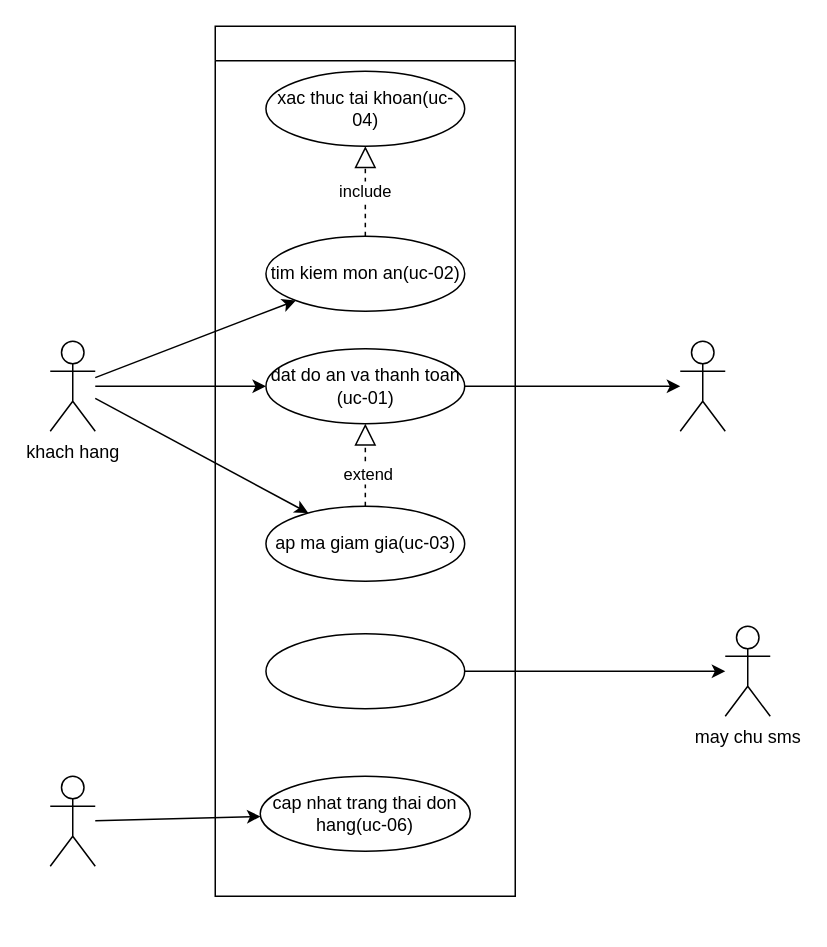
This 827x947 diagram has some shape labels left out. Here are the shapes that lost their labels. From the top down, the box of each, then its label:
(679, 340, 725, 431): cong momo
(214, 25, 515, 896): he thong quickbite
(264, 632, 465, 709): dieu phoi don hang(uc-05)
(49, 775, 95, 866): shipper
